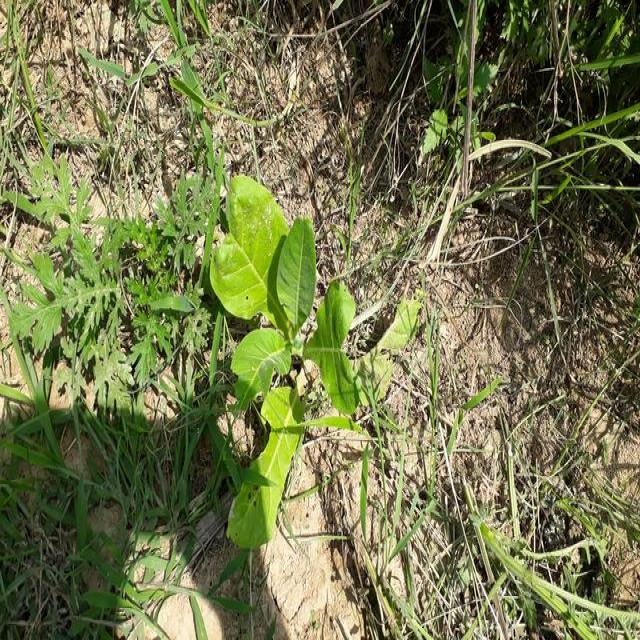crop: (209, 176, 416, 558)
